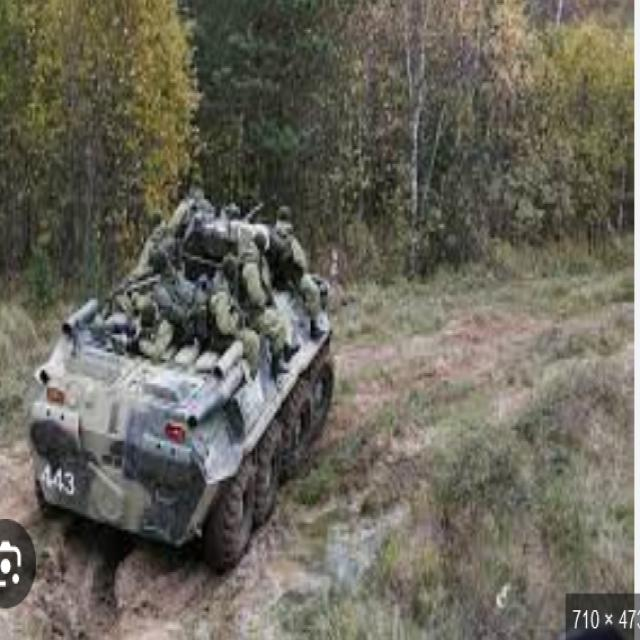MIL_APC: (23, 172, 360, 603)
